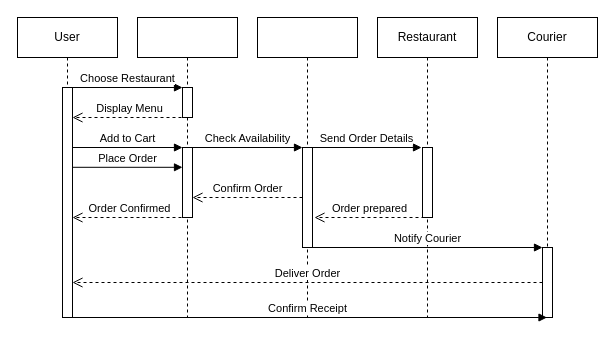
This 615x343 diagram has some shape labels left out. Each missing label, with the centre of its shape:
"App" belongs at point (187, 167).
"System" belongs at point (307, 167).
